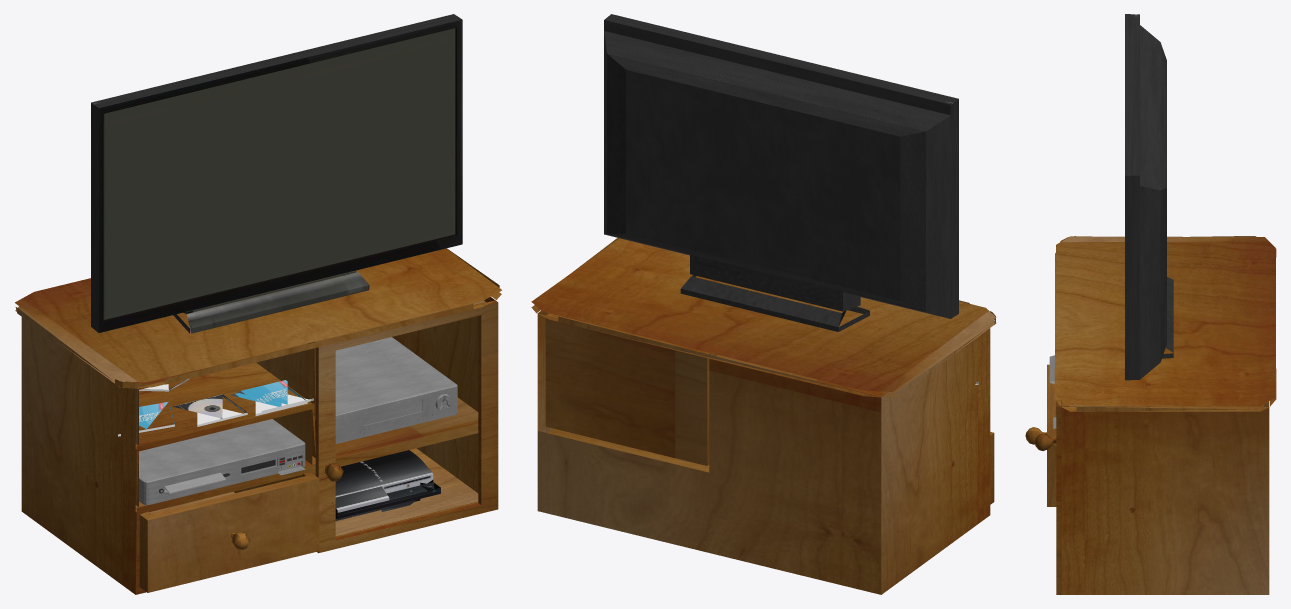
The picture shows the model from 3 angles, left to right: view 1: azimuth 30°, elevation 25°; view 2: azimuth 150°, elevation 25°; view 3: azimuth 270°, elevation 25°; orthographic projection. The views are drawn at different scales.
Parts seen in each view (by area): view 1: Toshiba TV, TV Cabinet, Bottom Drawer, Left Door, VHS Player, DVD Player, PS3, Disc and Case 4, Disc and Case 5, Flap.001; view 2: TV Cabinet, Toshiba TV; view 3: TV Cabinet, Toshiba TV, Left Door, Bottom Drawer.
Part boxes in pixels (x1=…): Toshiba TV: x1=91, y1=14, x2=462, y2=333; TV Cabinet: x1=15, y1=248, x2=501, y2=594; Bottom Drawer: x1=135, y1=472, x2=319, y2=592; Left Door: x1=315, y1=300, x2=498, y2=553; VHS Player: x1=335, y1=337, x2=457, y2=443; DVD Player: x1=139, y1=419, x2=305, y2=505; PS3: x1=335, y1=450, x2=440, y2=520; Disc and Case 4: x1=173, y1=394, x2=247, y2=426; Disc and Case 5: x1=236, y1=380, x2=313, y2=412; Flap.001: x1=363, y1=400, x2=422, y2=425; TV Cabinet: x1=531, y1=238, x2=996, y2=594; Toshiba TV: x1=604, y1=14, x2=958, y2=331; TV Cabinet: x1=1054, y1=236, x2=1276, y2=594; Toshiba TV: x1=1125, y1=14, x2=1173, y2=380; Left Door: x1=1034, y1=400, x2=1061, y2=594; Bottom Drawer: x1=1025, y1=364, x2=1056, y2=506.
Size of the model in its own units: 6.82 by 7.83 by 4.24.
24 materials, 22 textured.
